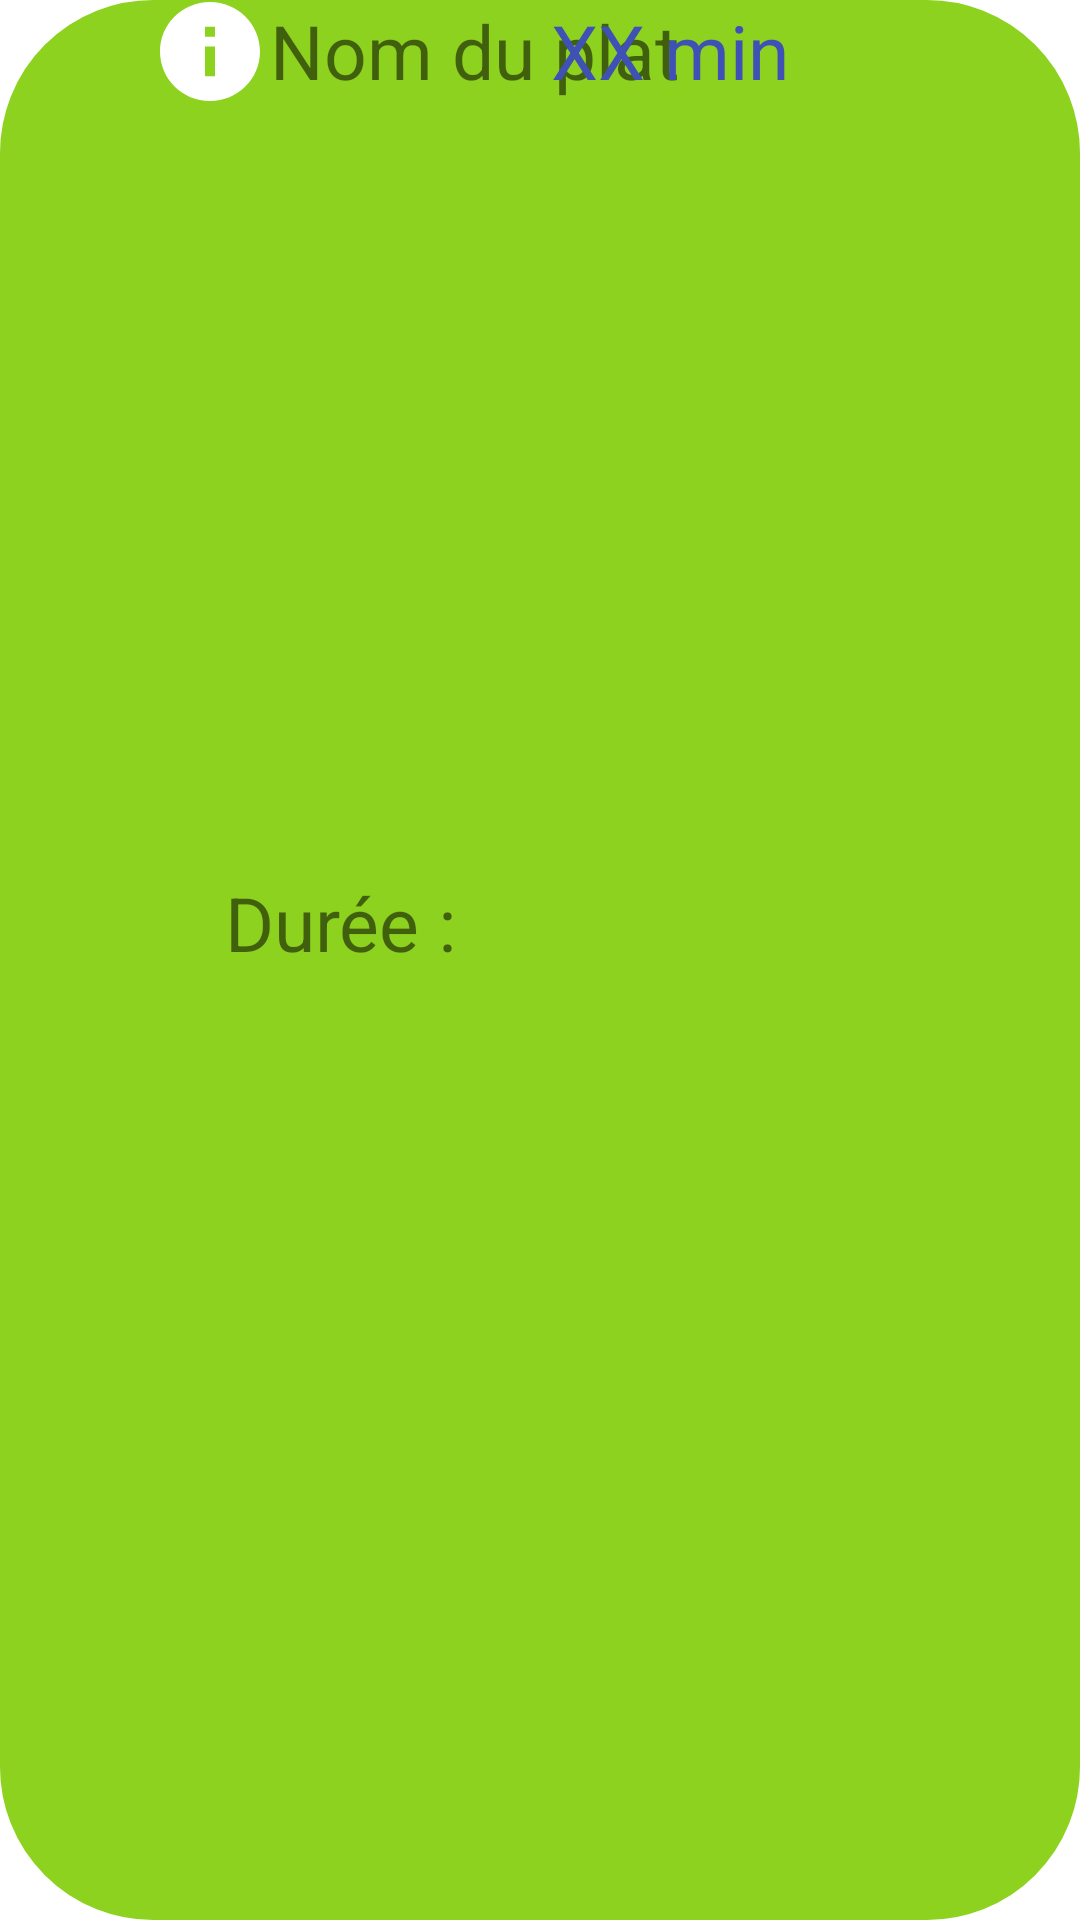

Icons on this 1080x1920 Android screen, each with its box as (x1, y1, x2, y2):
info: (160, 2, 260, 101)
